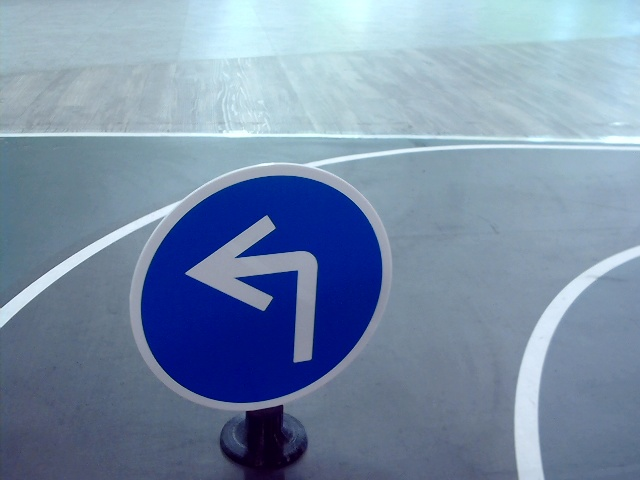turn_left: (191, 199, 323, 371)
